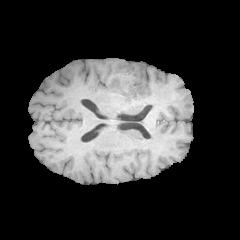glioma: (105, 62, 150, 102)
